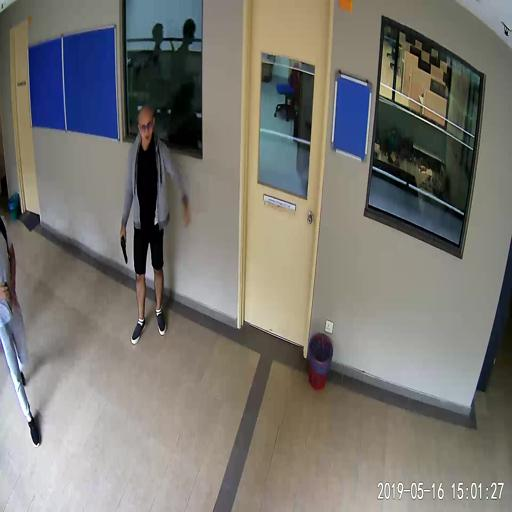pistol: (119, 231, 128, 265)
